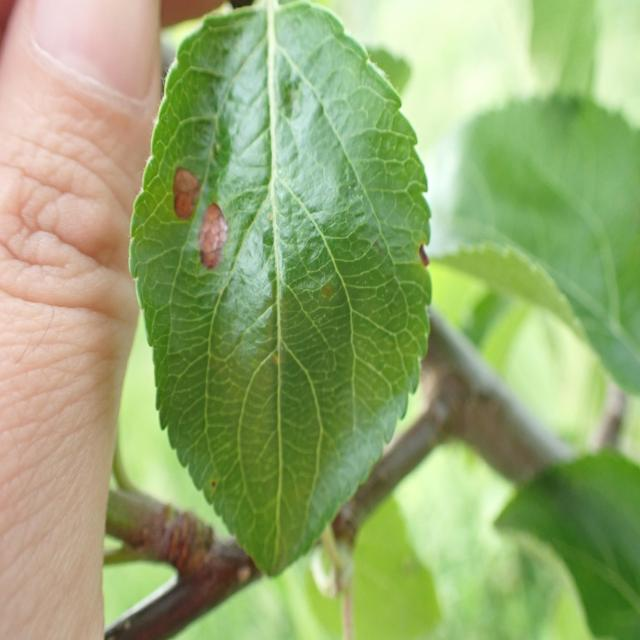Black Rot: (165, 151, 199, 223), (196, 198, 228, 271)
